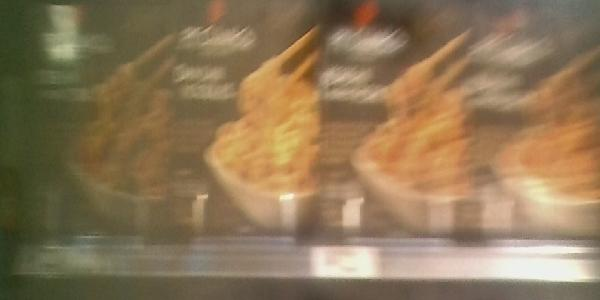pizza1: (318, 22, 473, 241), (169, 23, 318, 241), (18, 28, 169, 236), (476, 16, 600, 236)
